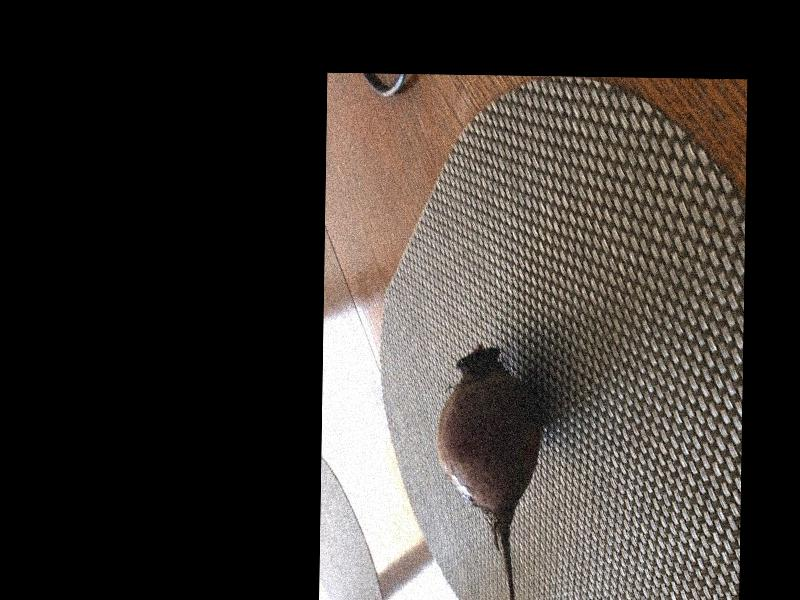Beet: (434, 346, 540, 600)
